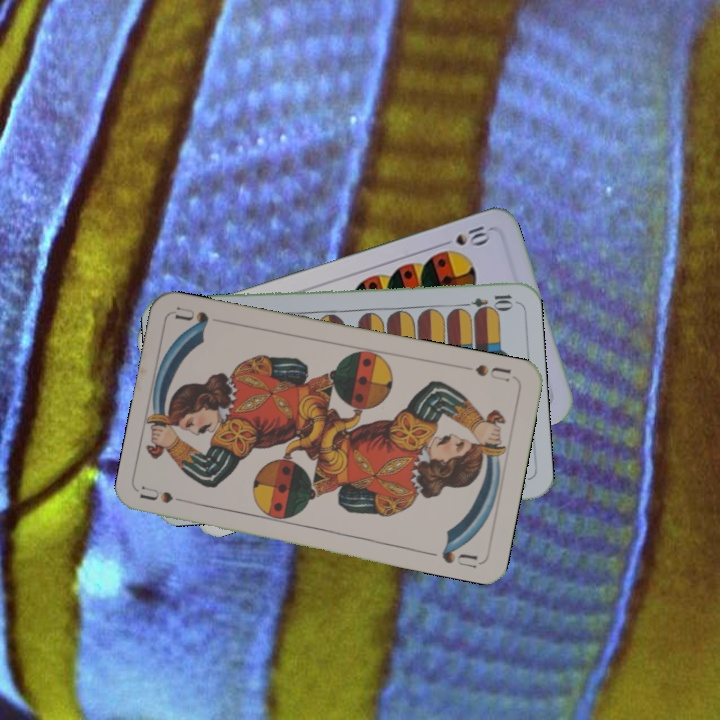E10: (456, 290, 515, 311)
S10: (435, 221, 492, 249)
SU: (138, 482, 197, 508), (471, 360, 514, 385)
